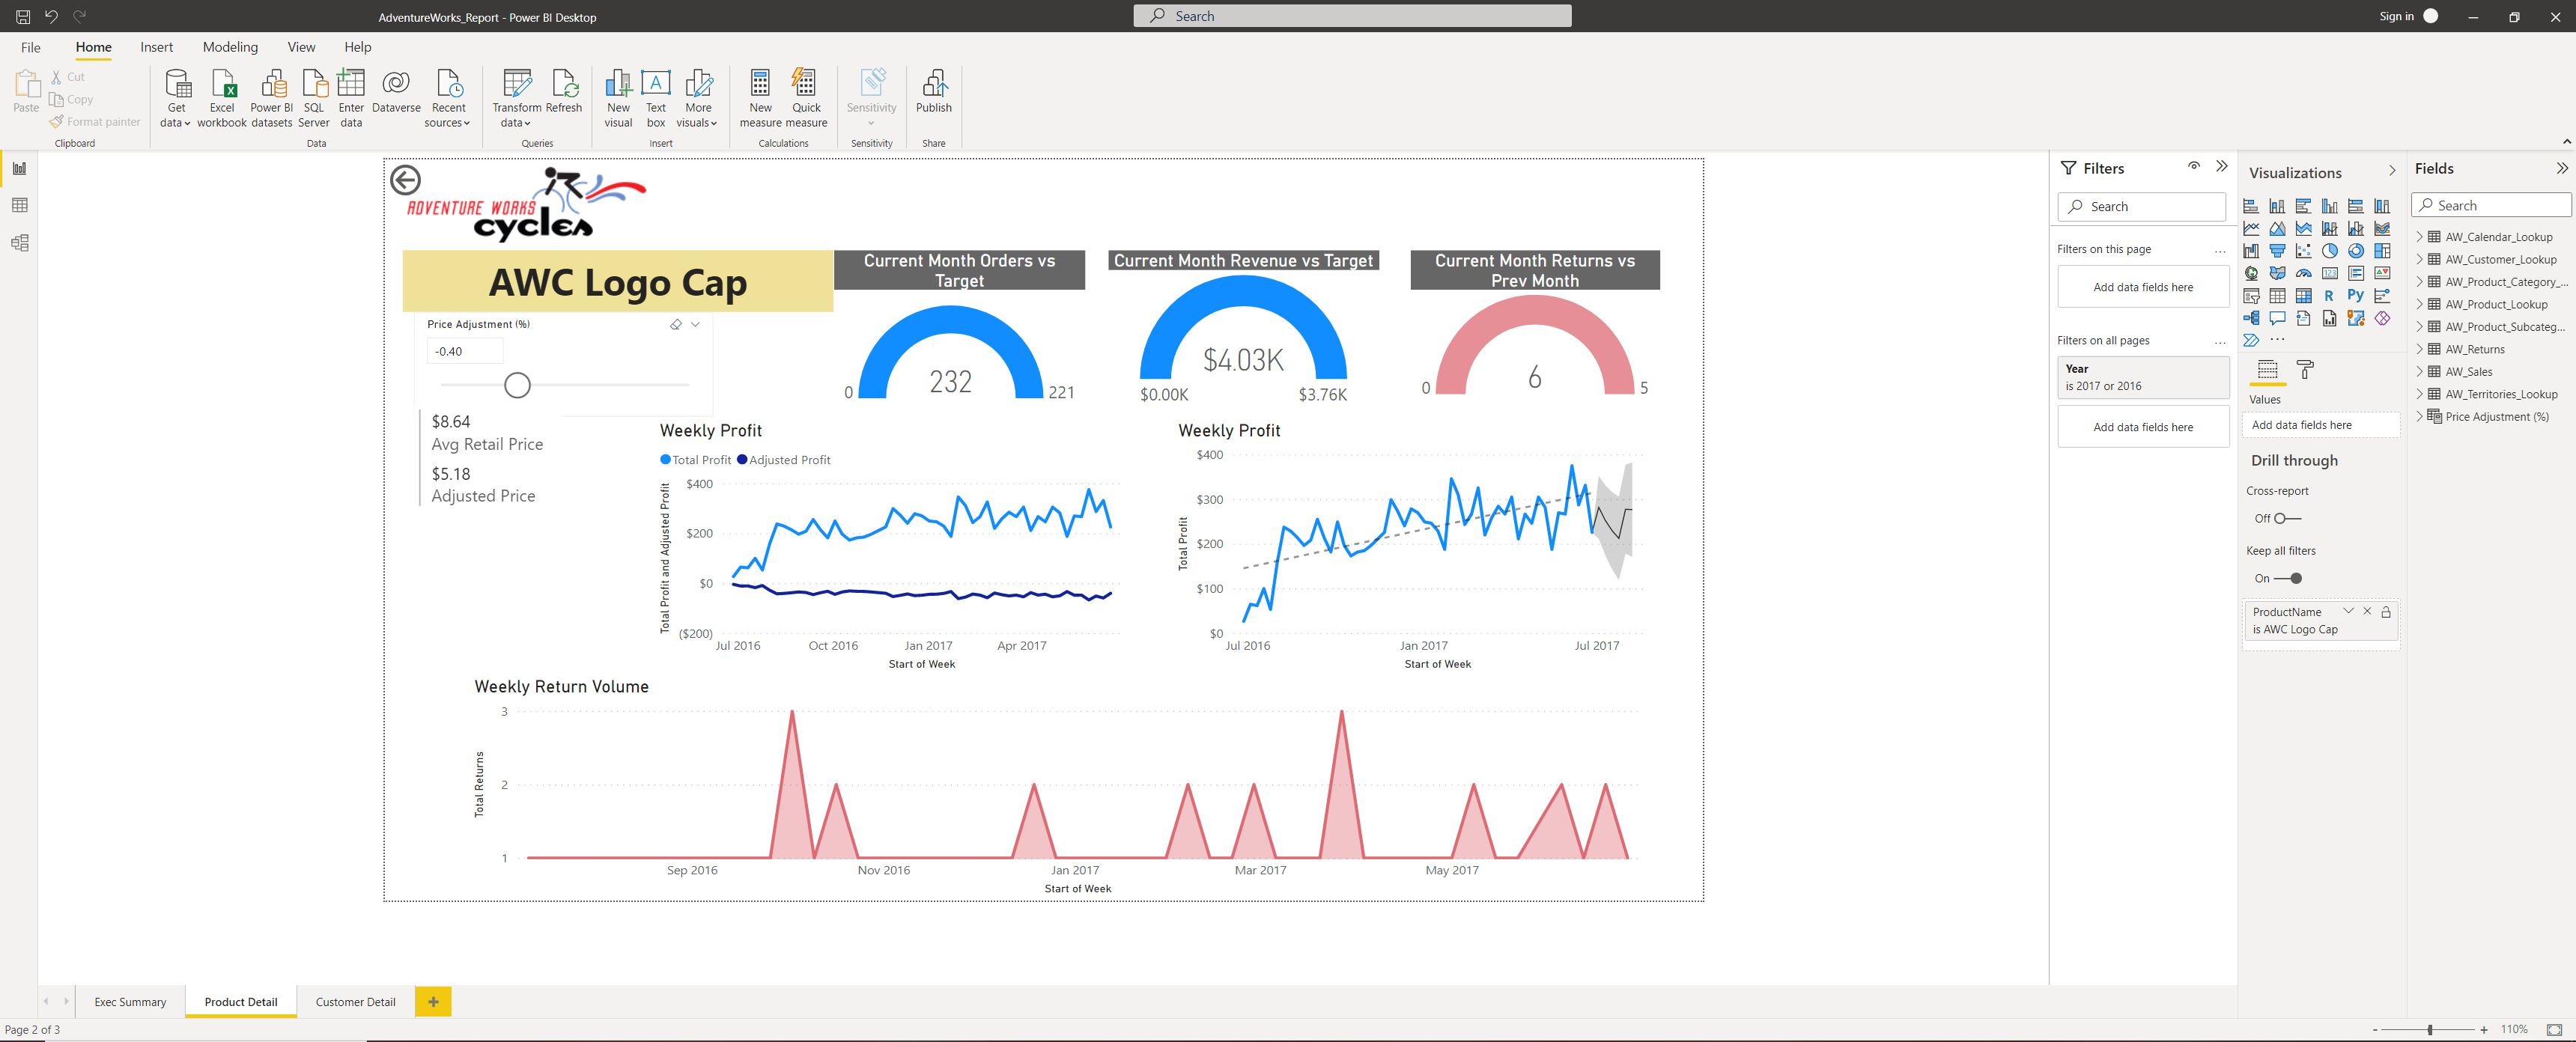

What the dashboard file says about the page in this screenshot:
{"tool":"powerbi","page":{"name":"Product Detail","canvas":[1280,720],"ordinal":1},"visuals":[{"type":"lineChart","title":"Weekly Profit","fields":{"Y":["AW_Sales.Total Profit"],"Category":["AW_Calendar_Lookup.Start of Week"]},"box":[765.7,252.9,472.9,248.6],"z":0},{"type":"areaChart","title":"Weekly Return Volume","fields":{"Category":["AW_Calendar_Lookup.Start of Week"],"Y":["AW_Returns.Total Returns"]},"box":[82,502,1156,218],"z":1000},{"type":"gauge","title":"Current Month Orders vs Target","fields":{"Y":["AW_Sales.Total Orders"],"MaxValue":["AW_Sales.Order Target"]},"box":[436,88,244,164],"z":2000},{"type":"gauge","title":"Current Month Returns vs Prev Month","fields":{"Y":["AW_Returns.Total Returns"],"MaxValue":["AW_Returns.Prev Month Returns"]},"box":[996,88,242,150],"z":3000},{"type":"gauge","title":"Current Month Revenue vs Target","fields":{"Y":["AW_Sales.Total Revenue"],"MaxValue":["AW_Sales.Revenue Target"]},"box":[702.9,88.6,262.9,161.4],"z":4000},{"type":"image","box":[17.1,0,244.3,88.6],"z":5000},{"type":"card","fields":{"Values":["Min(AW_Product_Lookup.ProductName)"]},"box":[17.1,88.6,418.6,60],"z":6000},{"type":"actionButton","box":[0,0,100,40],"z":7000},{"type":"slicer","fields":{"Values":["Price Adjustment (%).Price Adjustment (%)"]},"box":[17.1,148.6,291.4,101.4],"z":8000},{"type":"multiRowCard","fields":{"Values":["AW_Product_Lookup.Avg Retail Price","AW_Product_Lookup.Adjusted Price"]},"box":[28.6,238.6,142.9,108.6],"z":9000},{"type":"lineChart","title":"Weekly Profit","fields":{"Y":["AW_Sales.Total Profit","AW_Sales.Adjusted Profit"],"Category":["AW_Calendar_Lookup.Start of Week"]},"box":[261.4,252.9,472.9,248.6],"z":10000}]}

Visuals, with their boxes on the page's 1280x720 design canvas (x1, y1, x2, y2). These are canvas units, not pixel positions in the 2576x1042 screenshot, which may show the page scaled, cropped or inside an application window:
"Weekly Profit" lineChart: [766, 253, 1239, 502]
"Weekly Return Volume" areaChart: [82, 502, 1238, 720]
"Current Month Orders vs Target" gauge: [436, 88, 680, 252]
"Current Month Returns vs Prev Month" gauge: [996, 88, 1238, 238]
"Current Month Revenue vs Target" gauge: [703, 89, 966, 250]
image: [17, 0, 261, 89]
card - Min(AW_Product_Lookup.ProductName): [17, 89, 436, 149]
actionButton: [0, 0, 100, 40]
slicer - Price Adjustment (%).Price Adjustment (%): [17, 149, 308, 250]
multiRowCard - AW_Product_Lookup.Avg Retail Price x AW_Product_Lookup.Adjusted Price: [29, 239, 172, 347]
"Weekly Profit" lineChart: [261, 253, 734, 502]
